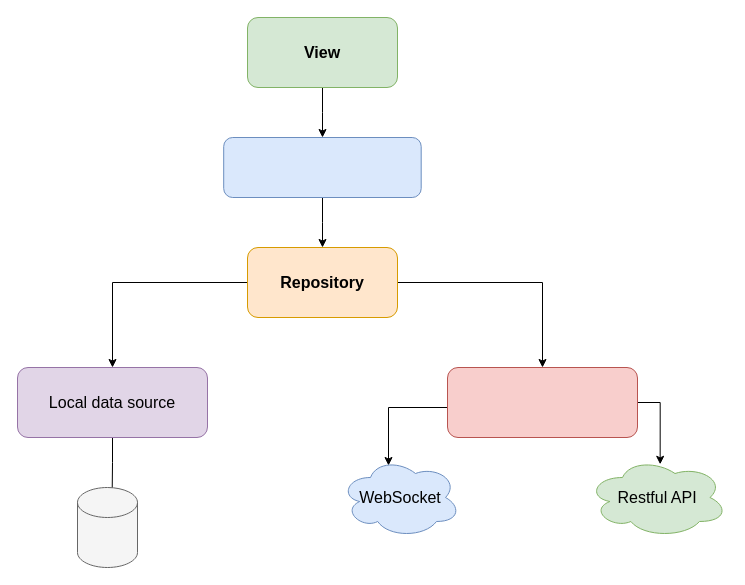
The diagram is 745 pixels wide and 585 high, and some of its shapes have lost their labels. Here are the shapes that lost their labels. From the top down, the box of each, then its label:
(223, 136, 421, 198): Model
(446, 366, 638, 438): Remote data source
(76, 486, 138, 568): SQLite
